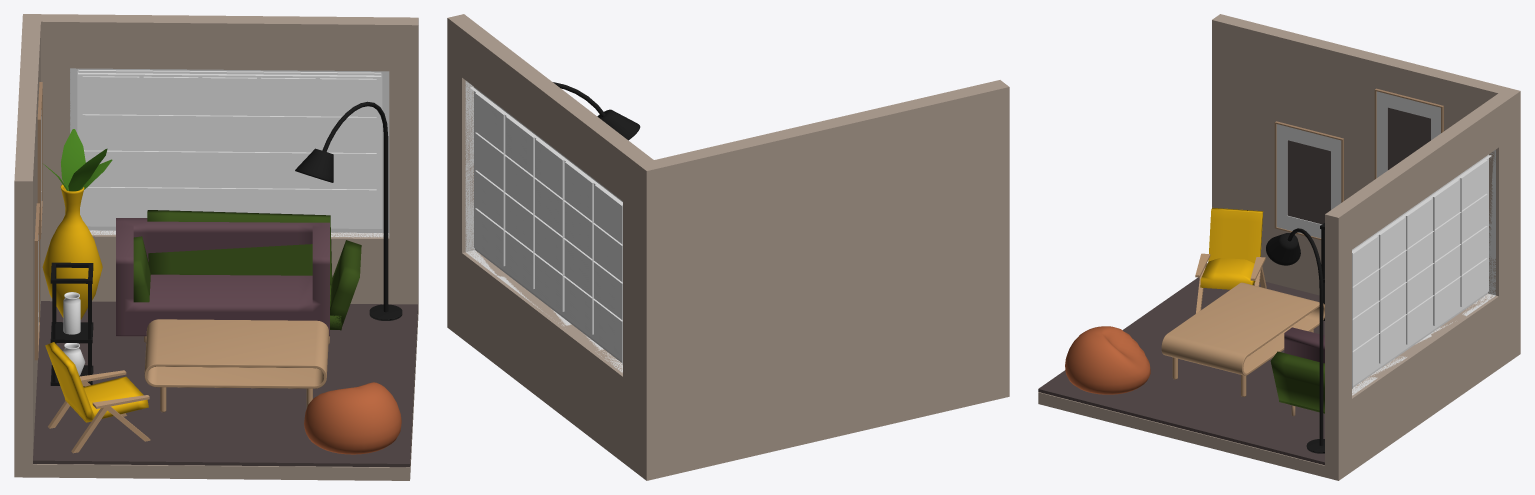
Rendered from cafe.glb.
3 views of the same model, side by side, from view 1: azimuth 30°, elevation 25°; view 2: azimuth 150°, elevation 25°; view 3: azimuth 270°, elevation 25° (orthographic). The views are drawn at different scales.
Visible parts, largest first — view 1: Cube.247, Plane.021, Cube.237, Chair_2, Cube.243, Chair_1, Sphere.003, Cube.246, Cylinder.038, Cube.238, Cube.242, Cube.244 (+8 smaller); view 2: Cube.247, Plane.021, Cube.246, Cylinder.036; view 3: Cube.247, Plane.021, Cube.237, Cube.243, Cube.245, Cube.236, Sphere.003, Cube.246, Cube.238, Chair_1, Cube.244, BézierCurve.001 (+2 smaller).
Part boxes in pixels (bbox=[...]): Cube.247: bbox=[14, 14, 418, 480]; Plane.021: bbox=[77, 70, 382, 228]; Cube.237: bbox=[33, 301, 417, 467]; Chair_2: bbox=[116, 218, 329, 336]; Cube.243: bbox=[144, 319, 328, 388]; Chair_1: bbox=[133, 210, 361, 330]; Sphere.003: bbox=[304, 382, 401, 454]; Cube.246: bbox=[70, 68, 389, 237]; Cylinder.038: bbox=[42, 184, 102, 319]; Cube.238: bbox=[45, 342, 148, 422]; Cube.242: bbox=[50, 262, 93, 385]; Cube.244: bbox=[34, 82, 42, 360]; Cube.247: bbox=[447, 14, 1009, 480]; Plane.021: bbox=[474, 87, 622, 361]; Cube.246: bbox=[465, 80, 622, 372]; Cylinder.036: bbox=[597, 109, 640, 140]; Cube.247: bbox=[1038, 14, 1520, 480]; Plane.021: bbox=[1352, 154, 1488, 385]; Cube.237: bbox=[1038, 277, 1324, 465]; Cube.243: bbox=[1161, 282, 1324, 375]; Cube.245: bbox=[1287, 107, 1430, 224]; Cube.236: bbox=[1276, 91, 1440, 238]; Sphere.003: bbox=[1065, 326, 1150, 394]; Cube.246: bbox=[1352, 149, 1495, 395]; Cube.238: bbox=[1200, 207, 1263, 289]; Chair_1: bbox=[1270, 351, 1324, 413]; Cube.244: bbox=[1274, 88, 1443, 239]; BézierCurve.001: bbox=[1287, 228, 1323, 445].
Size of the model in its own units: 1.44 by 0.865 by 1.44.
